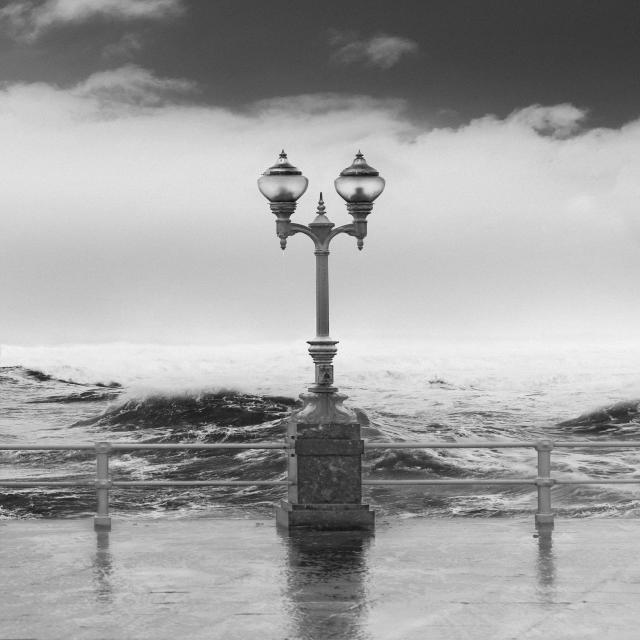Street Light: (255, 150, 387, 436)
